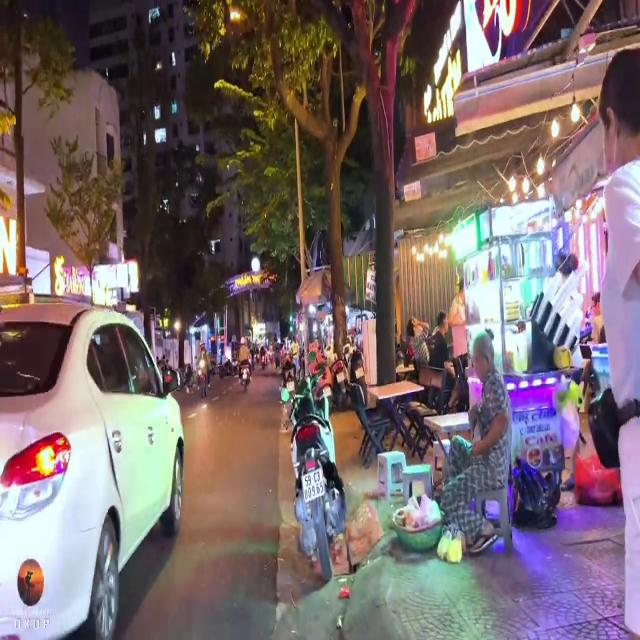bien_trang: (299, 470, 326, 499)
